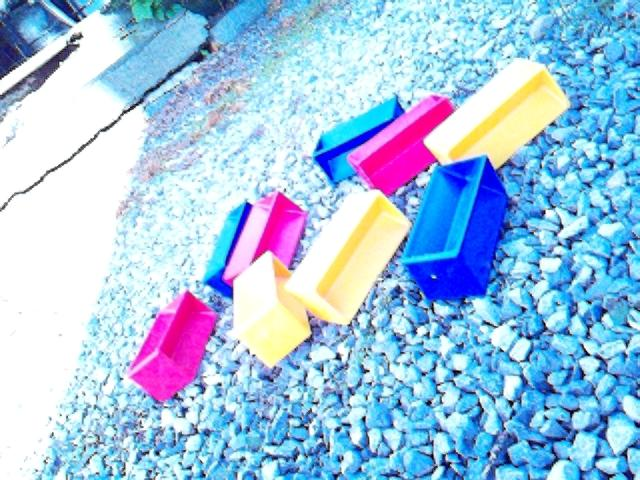blue: (401, 154, 510, 302), (312, 94, 405, 185), (202, 201, 254, 298)
red: (347, 93, 455, 197), (126, 290, 218, 403), (222, 190, 308, 288)
yellow: (285, 189, 412, 326), (423, 58, 571, 171), (231, 251, 313, 369)
